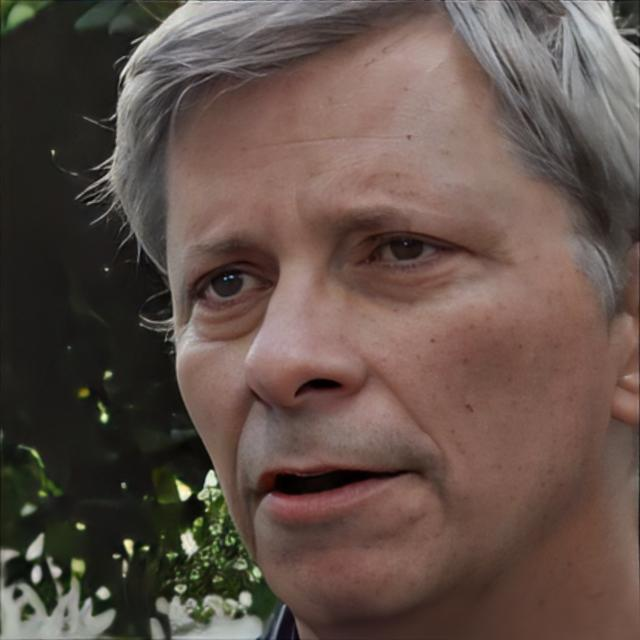sad: (158, 25, 610, 634)
